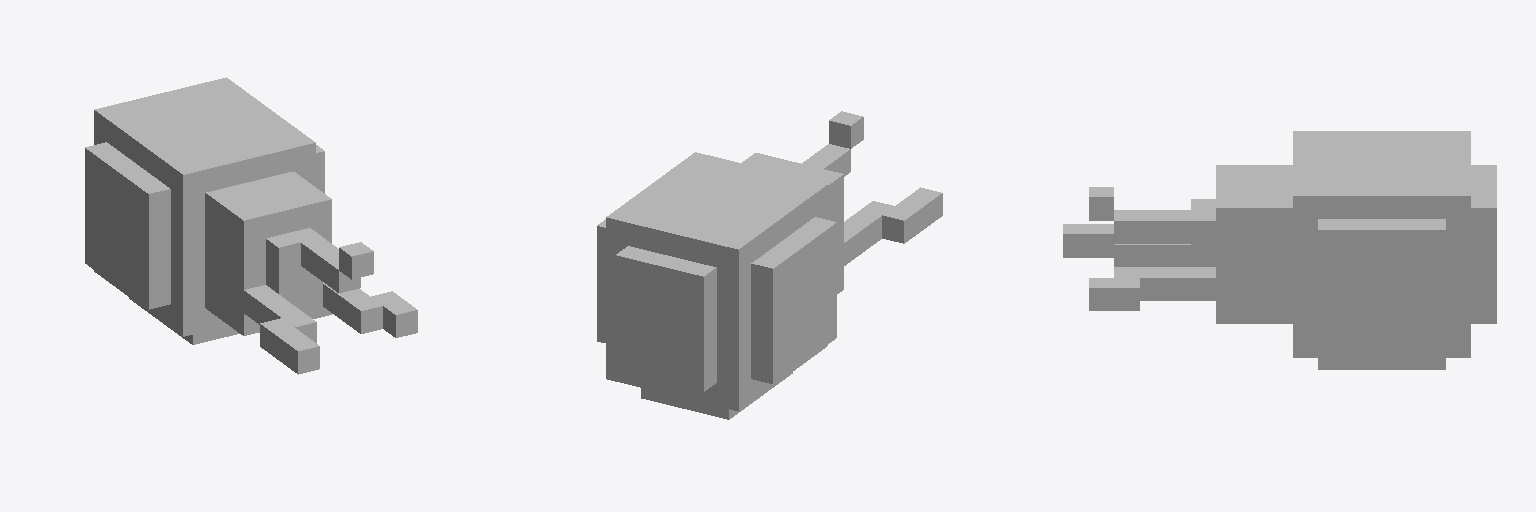
File: proj.obj
3 views of the same model, side by side, from view 1: azimuth 30°, elevation 25°; view 2: azimuth 150°, elevation 25°; view 3: azimuth 270°, elevation 25° (orthographic).
Visible parts, largest first — view 1: cube; view 2: cube; view 3: cube.
Boxes of the visible parts, <box> form: cube: <box>85,77,417,374</box>; cube: <box>597,111,942,419</box>; cube: <box>1063,131,1496,369</box>.
Bounding box in the file's own units: 8 × 8 × 17.